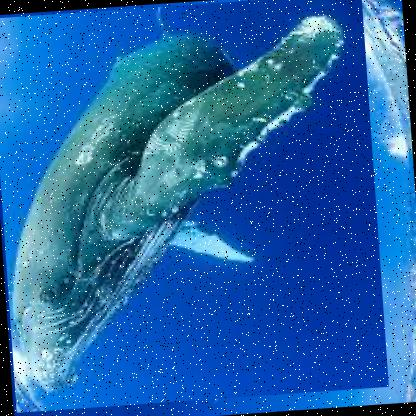blue_whale: (0, 0, 390, 413)
